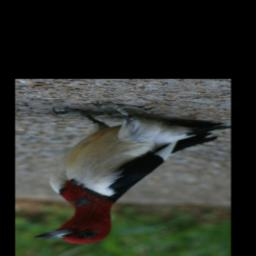Woodpecker: (27, 102, 231, 245)
